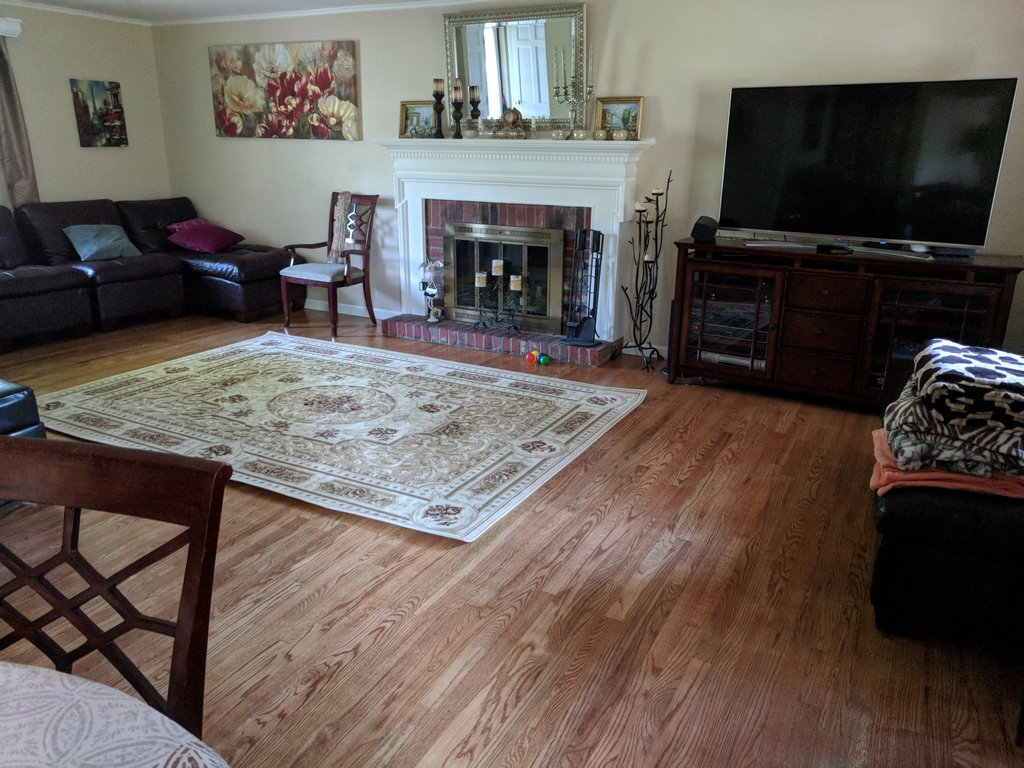ball: (540, 356, 550, 364)
